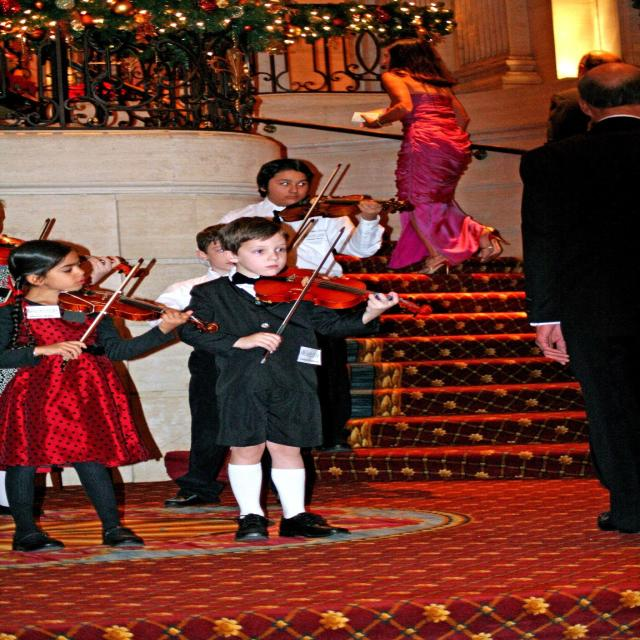violin: (250, 265, 436, 322), (60, 282, 219, 336), (0, 233, 143, 277), (281, 193, 417, 223)
